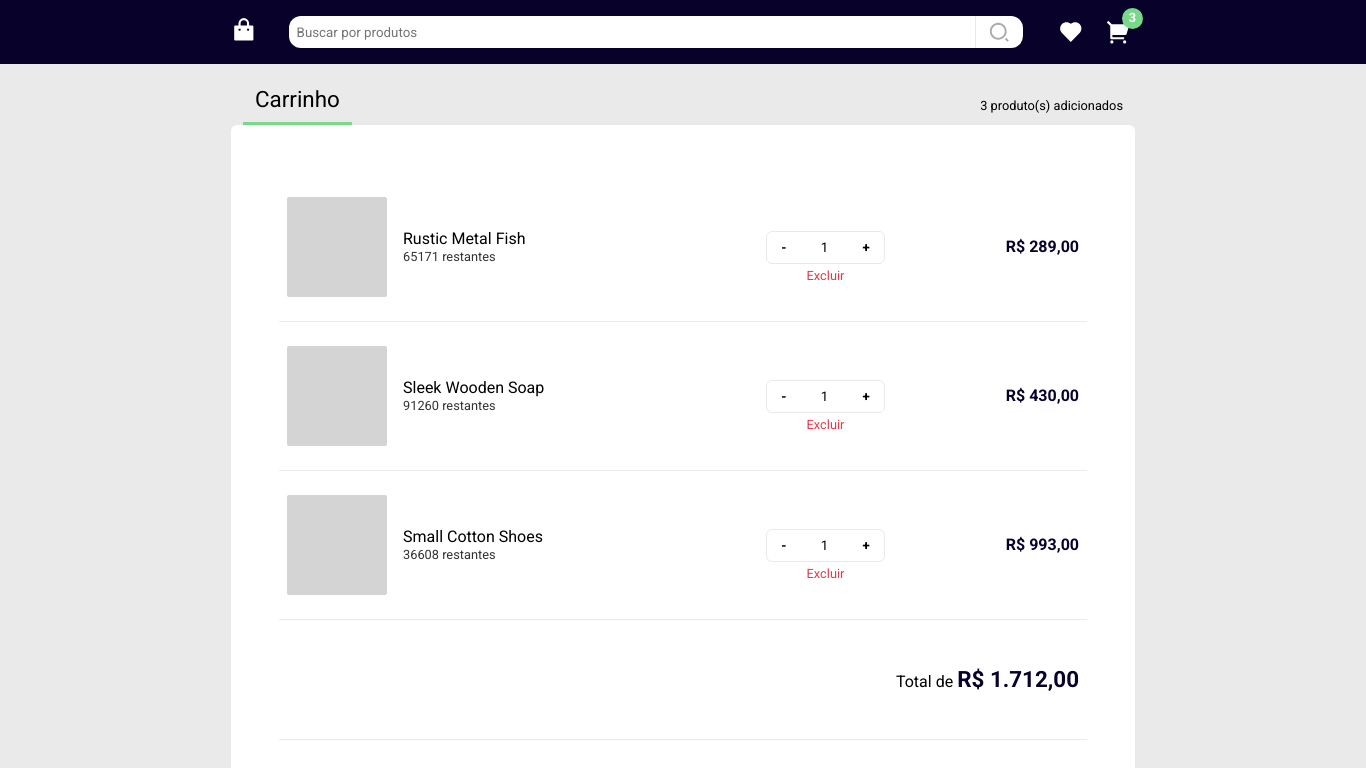
Cart › Cart with products › Should decrease quantity by clicking in button
Step 1. Click the button with test id "decrease-button" in the row of "289,00" → (784, 248), box [775,239,792,256]
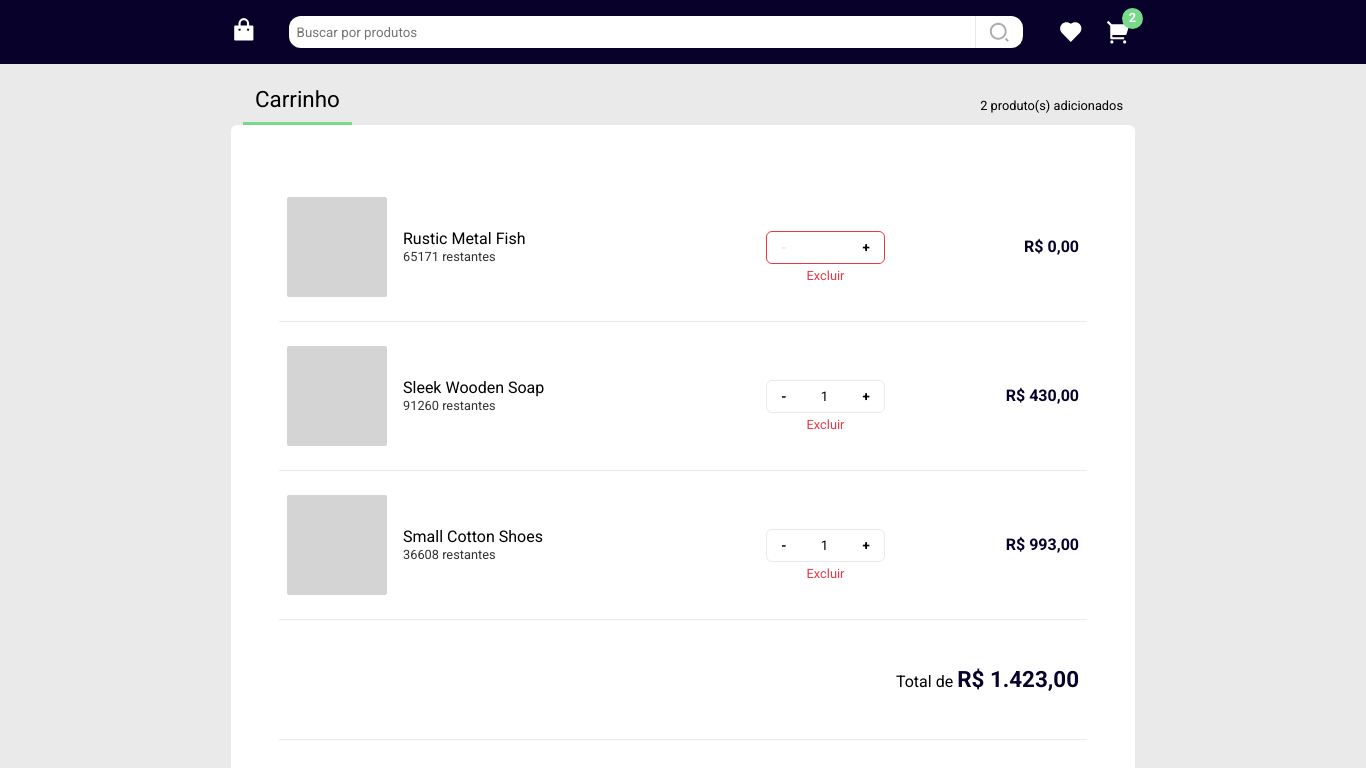
Expected: the text with test id "cart-products-label" reads "2", [1122,8,1143,29]
